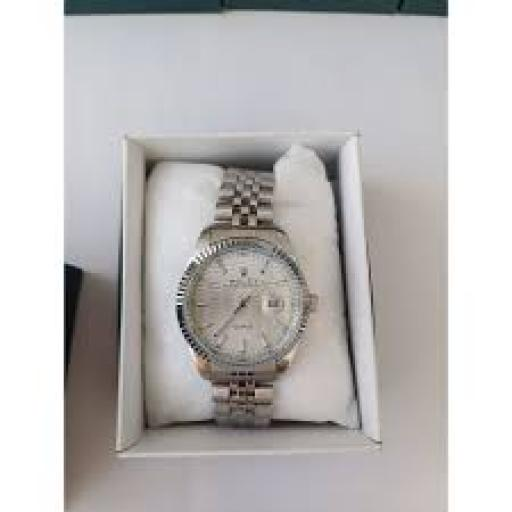KolSaati: (176, 151, 318, 436)
